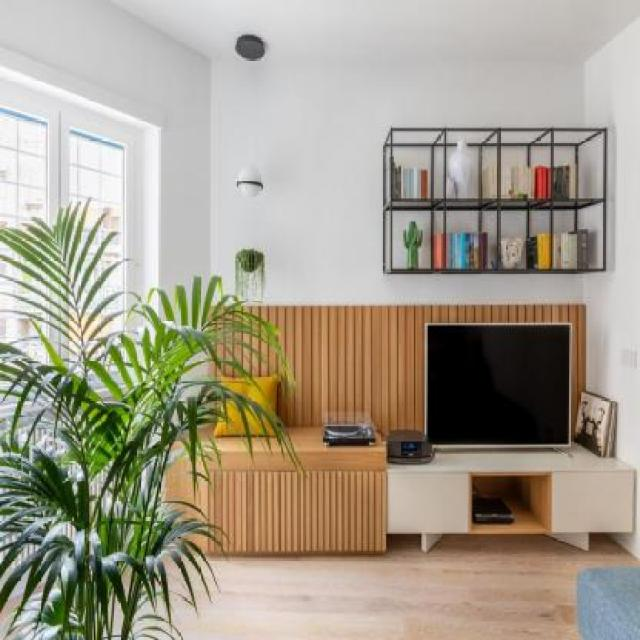Floor: (169, 532, 640, 640)
